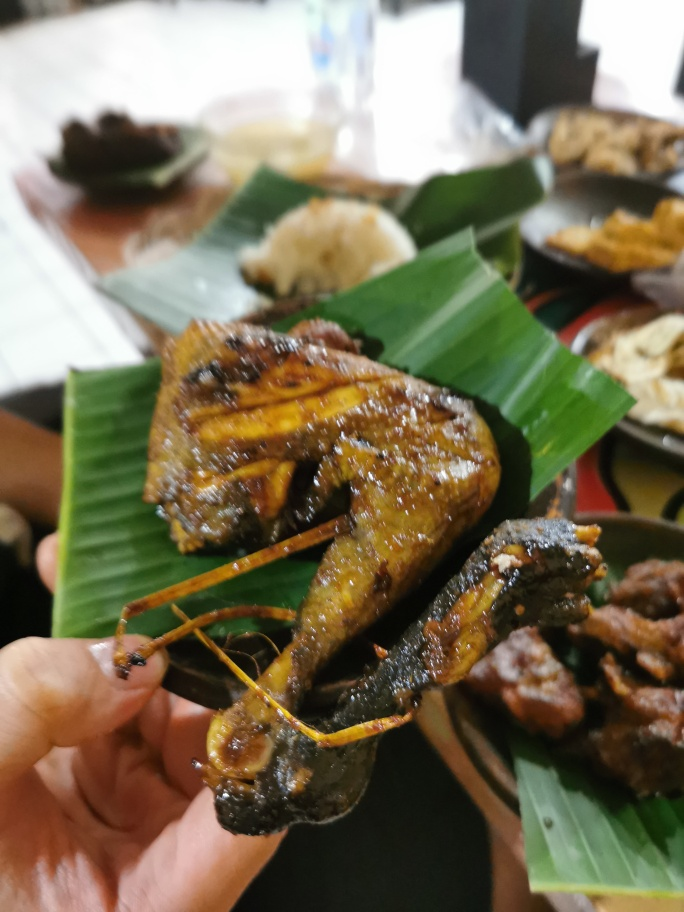ayam bakar: (148, 321, 610, 835)
